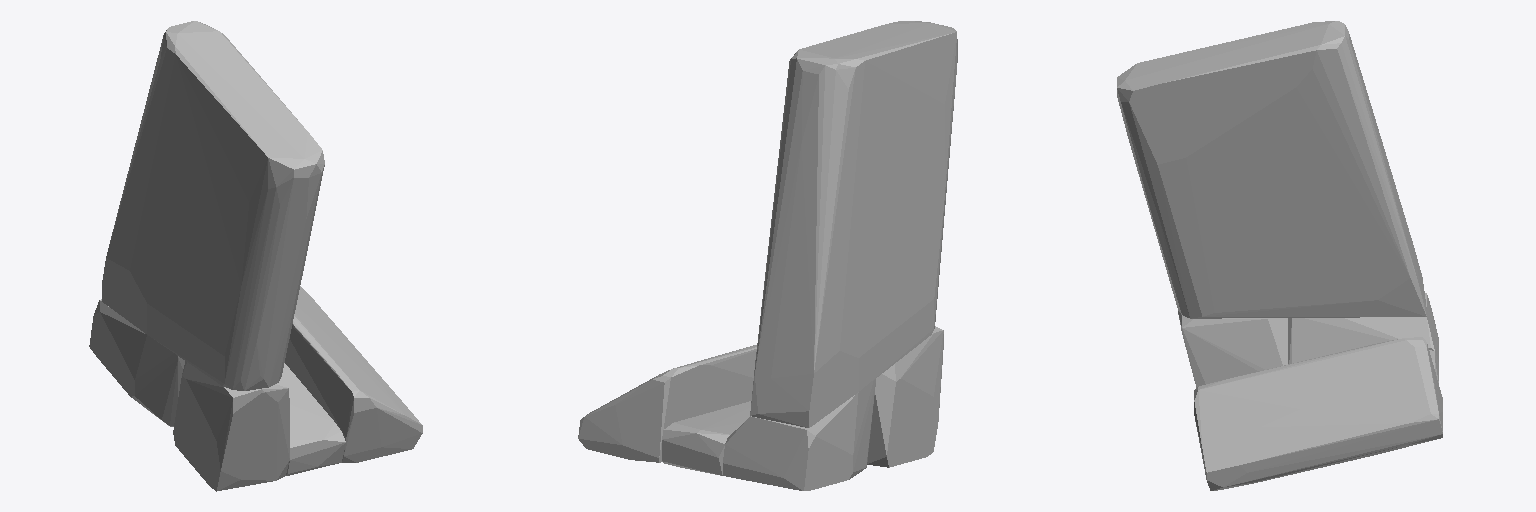
URDF robot description (root):
<robot name="root">
  <link name="link_thingiverse~part_3142291_convex_piece_0">
    <inertial>
      <origin rpy="0 0 0" xyz="0 0 0"/>
      <mass value="2.72E-01"/>
      <inertia ixx="4.06E-04" ixy="4.96E-06" ixz="-4.20E-05" iyy="3.14E-04" iyz="-5.23E-05" izz="1.40E-04"/>
    </inertial>
    <visual>
      <origin rpy="0 0 0" xyz="0 0 0"/>
      <geometry>
        <mesh filename="thingiverse~part_3142291_convex_piece_0.obj" scale="1.0000E+00 1.0000E+00 1.0000E+00"/>
      </geometry>
      <material name="">
        <color rgba="7.50E-01 7.50E-01 7.50E-01 1"/>
      </material>
    </visual>
    <collision>
      <origin rpy="0 0 0" xyz="0 0 0"/>
      <geometry>
        <mesh filename="thingiverse~part_3142291_convex_piece_0.obj" scale="1.0000E+00 1.0000E+00 1.0000E+00"/>
      </geometry>
    </collision>
  </link>
  <link name="link_thingiverse~part_3142291_convex_piece_1">
    <inertial>
      <origin rpy="0 0 0" xyz="0 0 0"/>
      <mass value="3.46E-02"/>
      <inertia ixx="6.61E-05" ixy="4.15E-06" ixz="-1.59E-05" iyy="5.63E-05" iyz="-9.67E-06" izz="2.19E-05"/>
    </inertial>
    <visual>
      <origin rpy="0 0 0" xyz="0 0 0"/>
      <geometry>
        <mesh filename="thingiverse~part_3142291_convex_piece_1.obj" scale="1.0000E+00 1.0000E+00 1.0000E+00"/>
      </geometry>
      <material name="">
        <color rgba="7.50E-01 7.50E-01 7.50E-01 1"/>
      </material>
    </visual>
    <collision>
      <origin rpy="0 0 0" xyz="0 0 0"/>
      <geometry>
        <mesh filename="thingiverse~part_3142291_convex_piece_1.obj" scale="1.0000E+00 1.0000E+00 1.0000E+00"/>
      </geometry>
    </collision>
  </link>
  <joint name="link_thingiverse~part_3142291_convex_piece_1_joint" type="fixed">
    <origin rpy="0 0 0" xyz="0 0 0"/>
    <parent link="link_thingiverse~part_3142291_convex_piece_0"/>
    <child link="link_thingiverse~part_3142291_convex_piece_1"/>
  </joint>
  <link name="link_thingiverse~part_3142291_convex_piece_2">
    <inertial>
      <origin rpy="0 0 0" xyz="0 0 0"/>
      <mass value="7.65E-02"/>
      <inertia ixx="1.31E-04" ixy="2.18E-05" ixz="-8.31E-05" iyy="1.72E-04" iyz="-1.79E-05" izz="1.11E-04"/>
    </inertial>
    <visual>
      <origin rpy="0 0 0" xyz="0 0 0"/>
      <geometry>
        <mesh filename="thingiverse~part_3142291_convex_piece_2.obj" scale="1.0000E+00 1.0000E+00 1.0000E+00"/>
      </geometry>
      <material name="">
        <color rgba="7.50E-01 7.50E-01 7.50E-01 1"/>
      </material>
    </visual>
    <collision>
      <origin rpy="0 0 0" xyz="0 0 0"/>
      <geometry>
        <mesh filename="thingiverse~part_3142291_convex_piece_2.obj" scale="1.0000E+00 1.0000E+00 1.0000E+00"/>
      </geometry>
    </collision>
  </link>
  <joint name="link_thingiverse~part_3142291_convex_piece_2_joint" type="fixed">
    <origin rpy="0 0 0" xyz="0 0 0"/>
    <parent link="link_thingiverse~part_3142291_convex_piece_1"/>
    <child link="link_thingiverse~part_3142291_convex_piece_2"/>
  </joint>
  <link name="link_thingiverse~part_3142291_convex_piece_3">
    <inertial>
      <origin rpy="0 0 0" xyz="0 0 0"/>
      <mass value="4.63E-02"/>
      <inertia ixx="6.50E-05" ixy="5.26E-06" ixz="1.20E-05" iyy="5.77E-05" iyz="2.09E-05" izz="1.66E-05"/>
    </inertial>
    <visual>
      <origin rpy="0 0 0" xyz="0 0 0"/>
      <geometry>
        <mesh filename="thingiverse~part_3142291_convex_piece_3.obj" scale="1.0000E+00 1.0000E+00 1.0000E+00"/>
      </geometry>
      <material name="">
        <color rgba="7.50E-01 7.50E-01 7.50E-01 1"/>
      </material>
    </visual>
    <collision>
      <origin rpy="0 0 0" xyz="0 0 0"/>
      <geometry>
        <mesh filename="thingiverse~part_3142291_convex_piece_3.obj" scale="1.0000E+00 1.0000E+00 1.0000E+00"/>
      </geometry>
    </collision>
  </link>
  <joint name="link_thingiverse~part_3142291_convex_piece_3_joint" type="fixed">
    <origin rpy="0 0 0" xyz="0 0 0"/>
    <parent link="link_thingiverse~part_3142291_convex_piece_2"/>
    <child link="link_thingiverse~part_3142291_convex_piece_3"/>
  </joint>
  <link name="link_thingiverse~part_3142291_convex_piece_4">
    <inertial>
      <origin rpy="0 0 0" xyz="0 0 0"/>
      <mass value="5.06E-02"/>
      <inertia ixx="7.34E-05" ixy="-8.69E-06" ixz="1.16E-05" iyy="5.02E-05" iyz="-2.96E-05" izz="3.36E-05"/>
    </inertial>
    <visual>
      <origin rpy="0 0 0" xyz="0 0 0"/>
      <geometry>
        <mesh filename="thingiverse~part_3142291_convex_piece_4.obj" scale="1.0000E+00 1.0000E+00 1.0000E+00"/>
      </geometry>
      <material name="">
        <color rgba="7.50E-01 7.50E-01 7.50E-01 1"/>
      </material>
    </visual>
    <collision>
      <origin rpy="0 0 0" xyz="0 0 0"/>
      <geometry>
        <mesh filename="thingiverse~part_3142291_convex_piece_4.obj" scale="1.0000E+00 1.0000E+00 1.0000E+00"/>
      </geometry>
    </collision>
  </link>
  <joint name="link_thingiverse~part_3142291_convex_piece_4_joint" type="fixed">
    <origin rpy="0 0 0" xyz="0 0 0"/>
    <parent link="link_thingiverse~part_3142291_convex_piece_3"/>
    <child link="link_thingiverse~part_3142291_convex_piece_4"/>
  </joint>
</robot>

--- Facts derived from the render (not from the file) ---
Views: 3 orthographic renders of the robot side by side, from view 1: azimuth 30°, elevation 25°; view 2: azimuth 150°, elevation 25°; view 3: azimuth 270°, elevation 25°.
Model root with 5 links and 4 joints (4 fixed), rooted at link_thingiverse~part_3142291_convex_piece_0, posed all joints at 0.
Links seen in each view (by area): view 1: link_thingiverse~part_3142291_convex_piece_0, link_thingiverse~part_3142291_convex_piece_3, link_thingiverse~part_3142291_convex_piece_2, link_thingiverse~part_3142291_convex_piece_4, link_thingiverse~part_3142291_convex_piece_1; view 2: link_thingiverse~part_3142291_convex_piece_0, link_thingiverse~part_3142291_convex_piece_2, link_thingiverse~part_3142291_convex_piece_4, link_thingiverse~part_3142291_convex_piece_3, link_thingiverse~part_3142291_convex_piece_1; view 3: link_thingiverse~part_3142291_convex_piece_0, link_thingiverse~part_3142291_convex_piece_2, link_thingiverse~part_3142291_convex_piece_3, link_thingiverse~part_3142291_convex_piece_4.
Boxes of the visible links, x1=… form: link_thingiverse~part_3142291_convex_piece_0: x1=102, y1=21, x2=324, y2=390; link_thingiverse~part_3142291_convex_piece_3: x1=173, y1=361, x2=289, y2=491; link_thingiverse~part_3142291_convex_piece_2: x1=285, y1=286, x2=422, y2=462; link_thingiverse~part_3142291_convex_piece_4: x1=89, y1=299, x2=184, y2=426; link_thingiverse~part_3142291_convex_piece_1: x1=281, y1=363, x2=345, y2=475; link_thingiverse~part_3142291_convex_piece_0: x1=750, y1=21, x2=957, y2=427; link_thingiverse~part_3142291_convex_piece_2: x1=578, y1=345, x2=756, y2=462; link_thingiverse~part_3142291_convex_piece_4: x1=723, y1=379, x2=875, y2=490; link_thingiverse~part_3142291_convex_piece_3: x1=867, y1=326, x2=943, y2=467; link_thingiverse~part_3142291_convex_piece_1: x1=662, y1=401, x2=750, y2=475; link_thingiverse~part_3142291_convex_piece_0: x1=1117, y1=21, x2=1426, y2=318; link_thingiverse~part_3142291_convex_piece_2: x1=1194, y1=337, x2=1442, y2=490; link_thingiverse~part_3142291_convex_piece_3: x1=1178, y1=311, x2=1287, y2=387; link_thingiverse~part_3142291_convex_piece_4: x1=1288, y1=293, x2=1438, y2=363.
Bounding box of the posed robot: 0.0652 × 0.0931 × 0.1222 m (x, y, z).
Meshes: 5 distinct files referenced, 5 mesh visuals loaded (5 OBJ).
